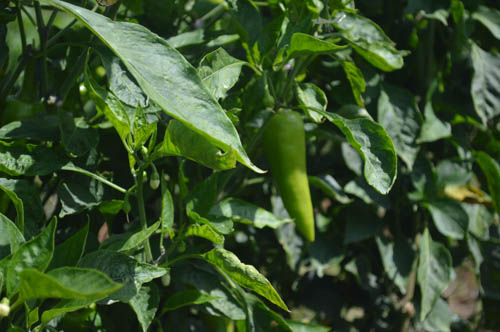ChiliPepper: (266, 112, 317, 243)
